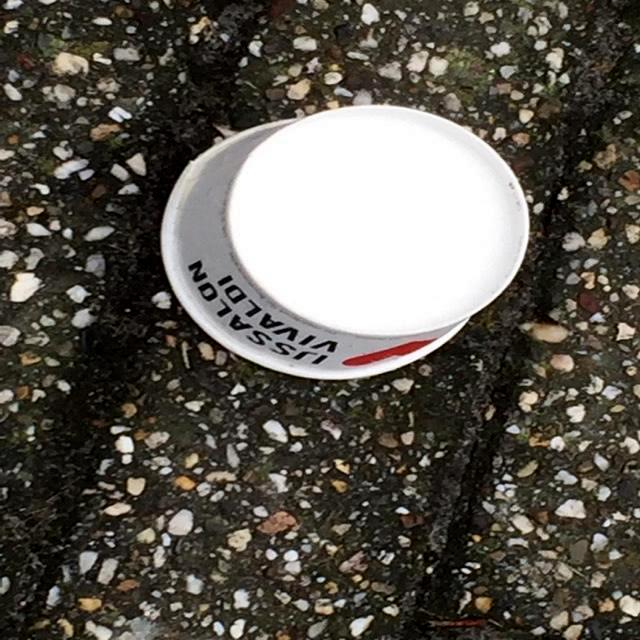Paper: (152, 99, 534, 385)
